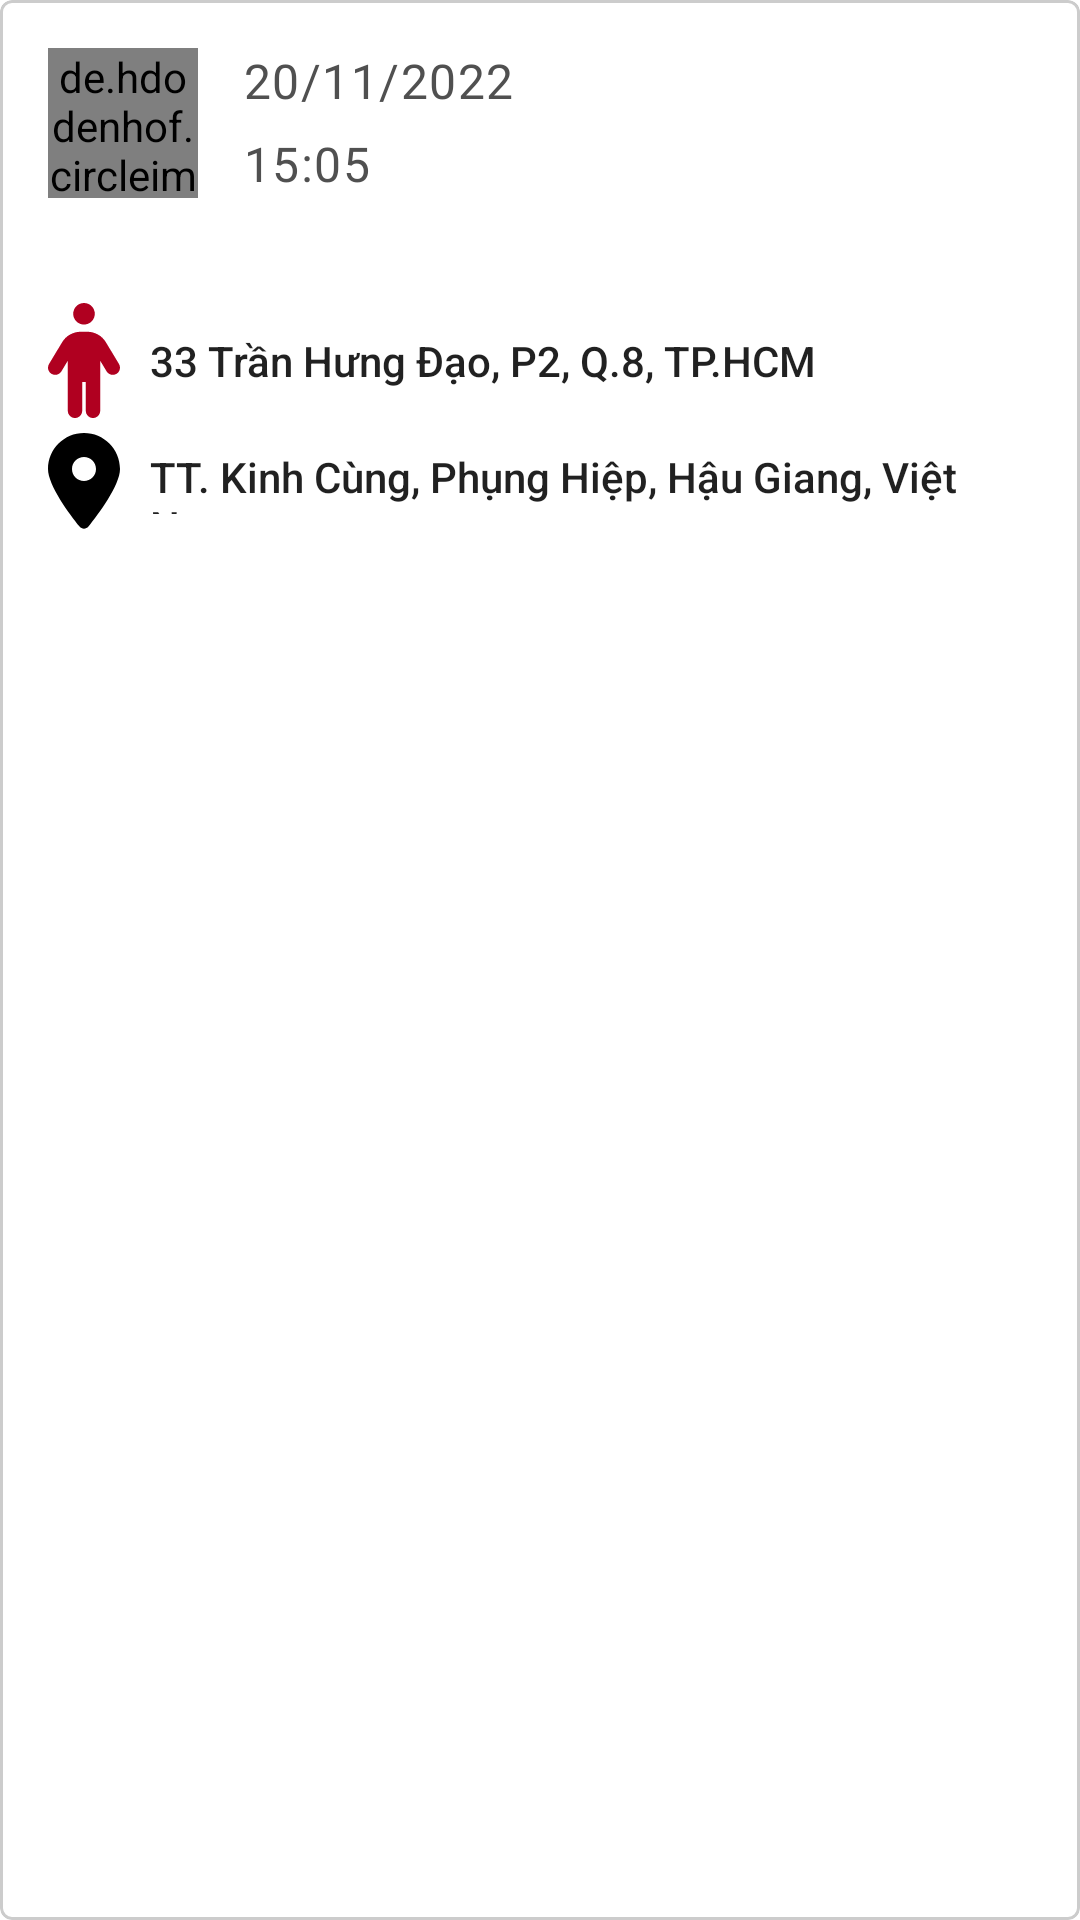

Icons on this 1080x1920 Android screen, each with the point to tap as (x,y):
location dot: (84,481)
person: (84,360)
